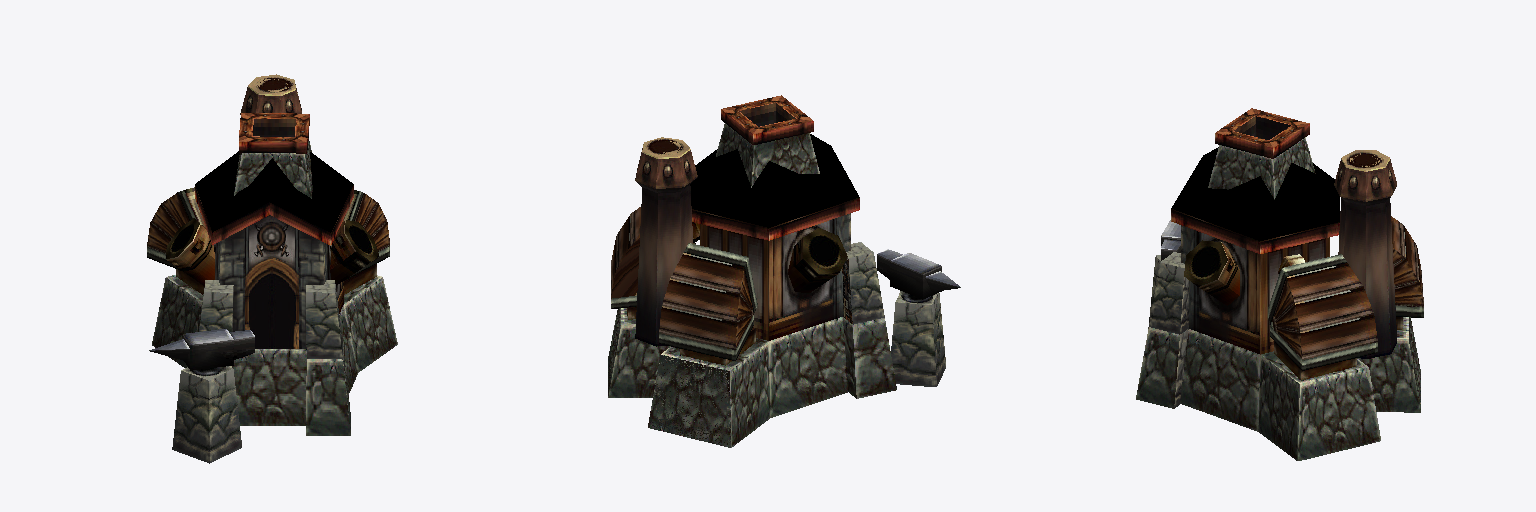
3 views of the same model, side by side, from view 1: azimuth 30°, elevation 25°; view 2: azimuth 150°, elevation 25°; view 3: azimuth 270°, elevation 25° (orthographic).
Parts seen in each view (by area): view 1: Mesh01, Mesh02; view 2: Mesh01, Mesh02, Mesh11; view 3: Mesh01, Mesh02, Mesh11.
Boxes of the visible parts, box(x1,y1,x2,y2) form: Mesh01: box(147, 74, 397, 463); Mesh02: box(195, 151, 353, 232); Mesh01: box(608, 95, 960, 447); Mesh02: box(690, 134, 858, 227); Mesh11: box(621, 141, 770, 446); Mesh01: box(1136, 108, 1423, 460); Mesh02: box(1171, 147, 1339, 240); Mesh11: box(1263, 153, 1420, 411).
Size of the model in its own units: 272 by 228 by 225.
2 materials, 1 textured.